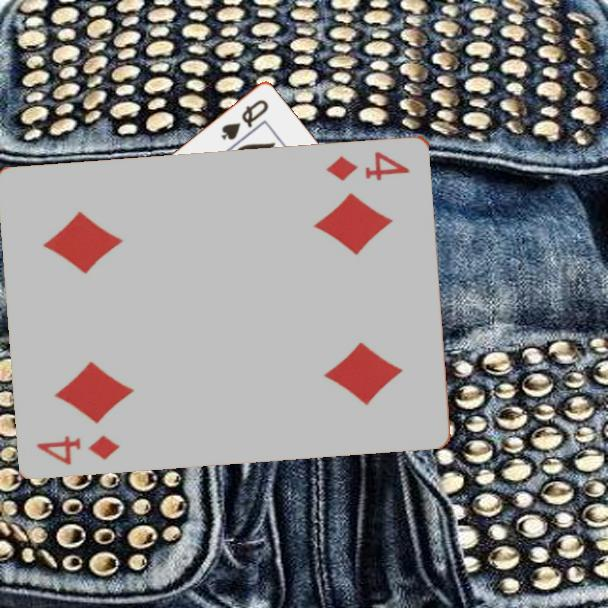d04: (323, 147, 413, 184), (33, 431, 123, 467)
s12: (217, 96, 272, 143)
